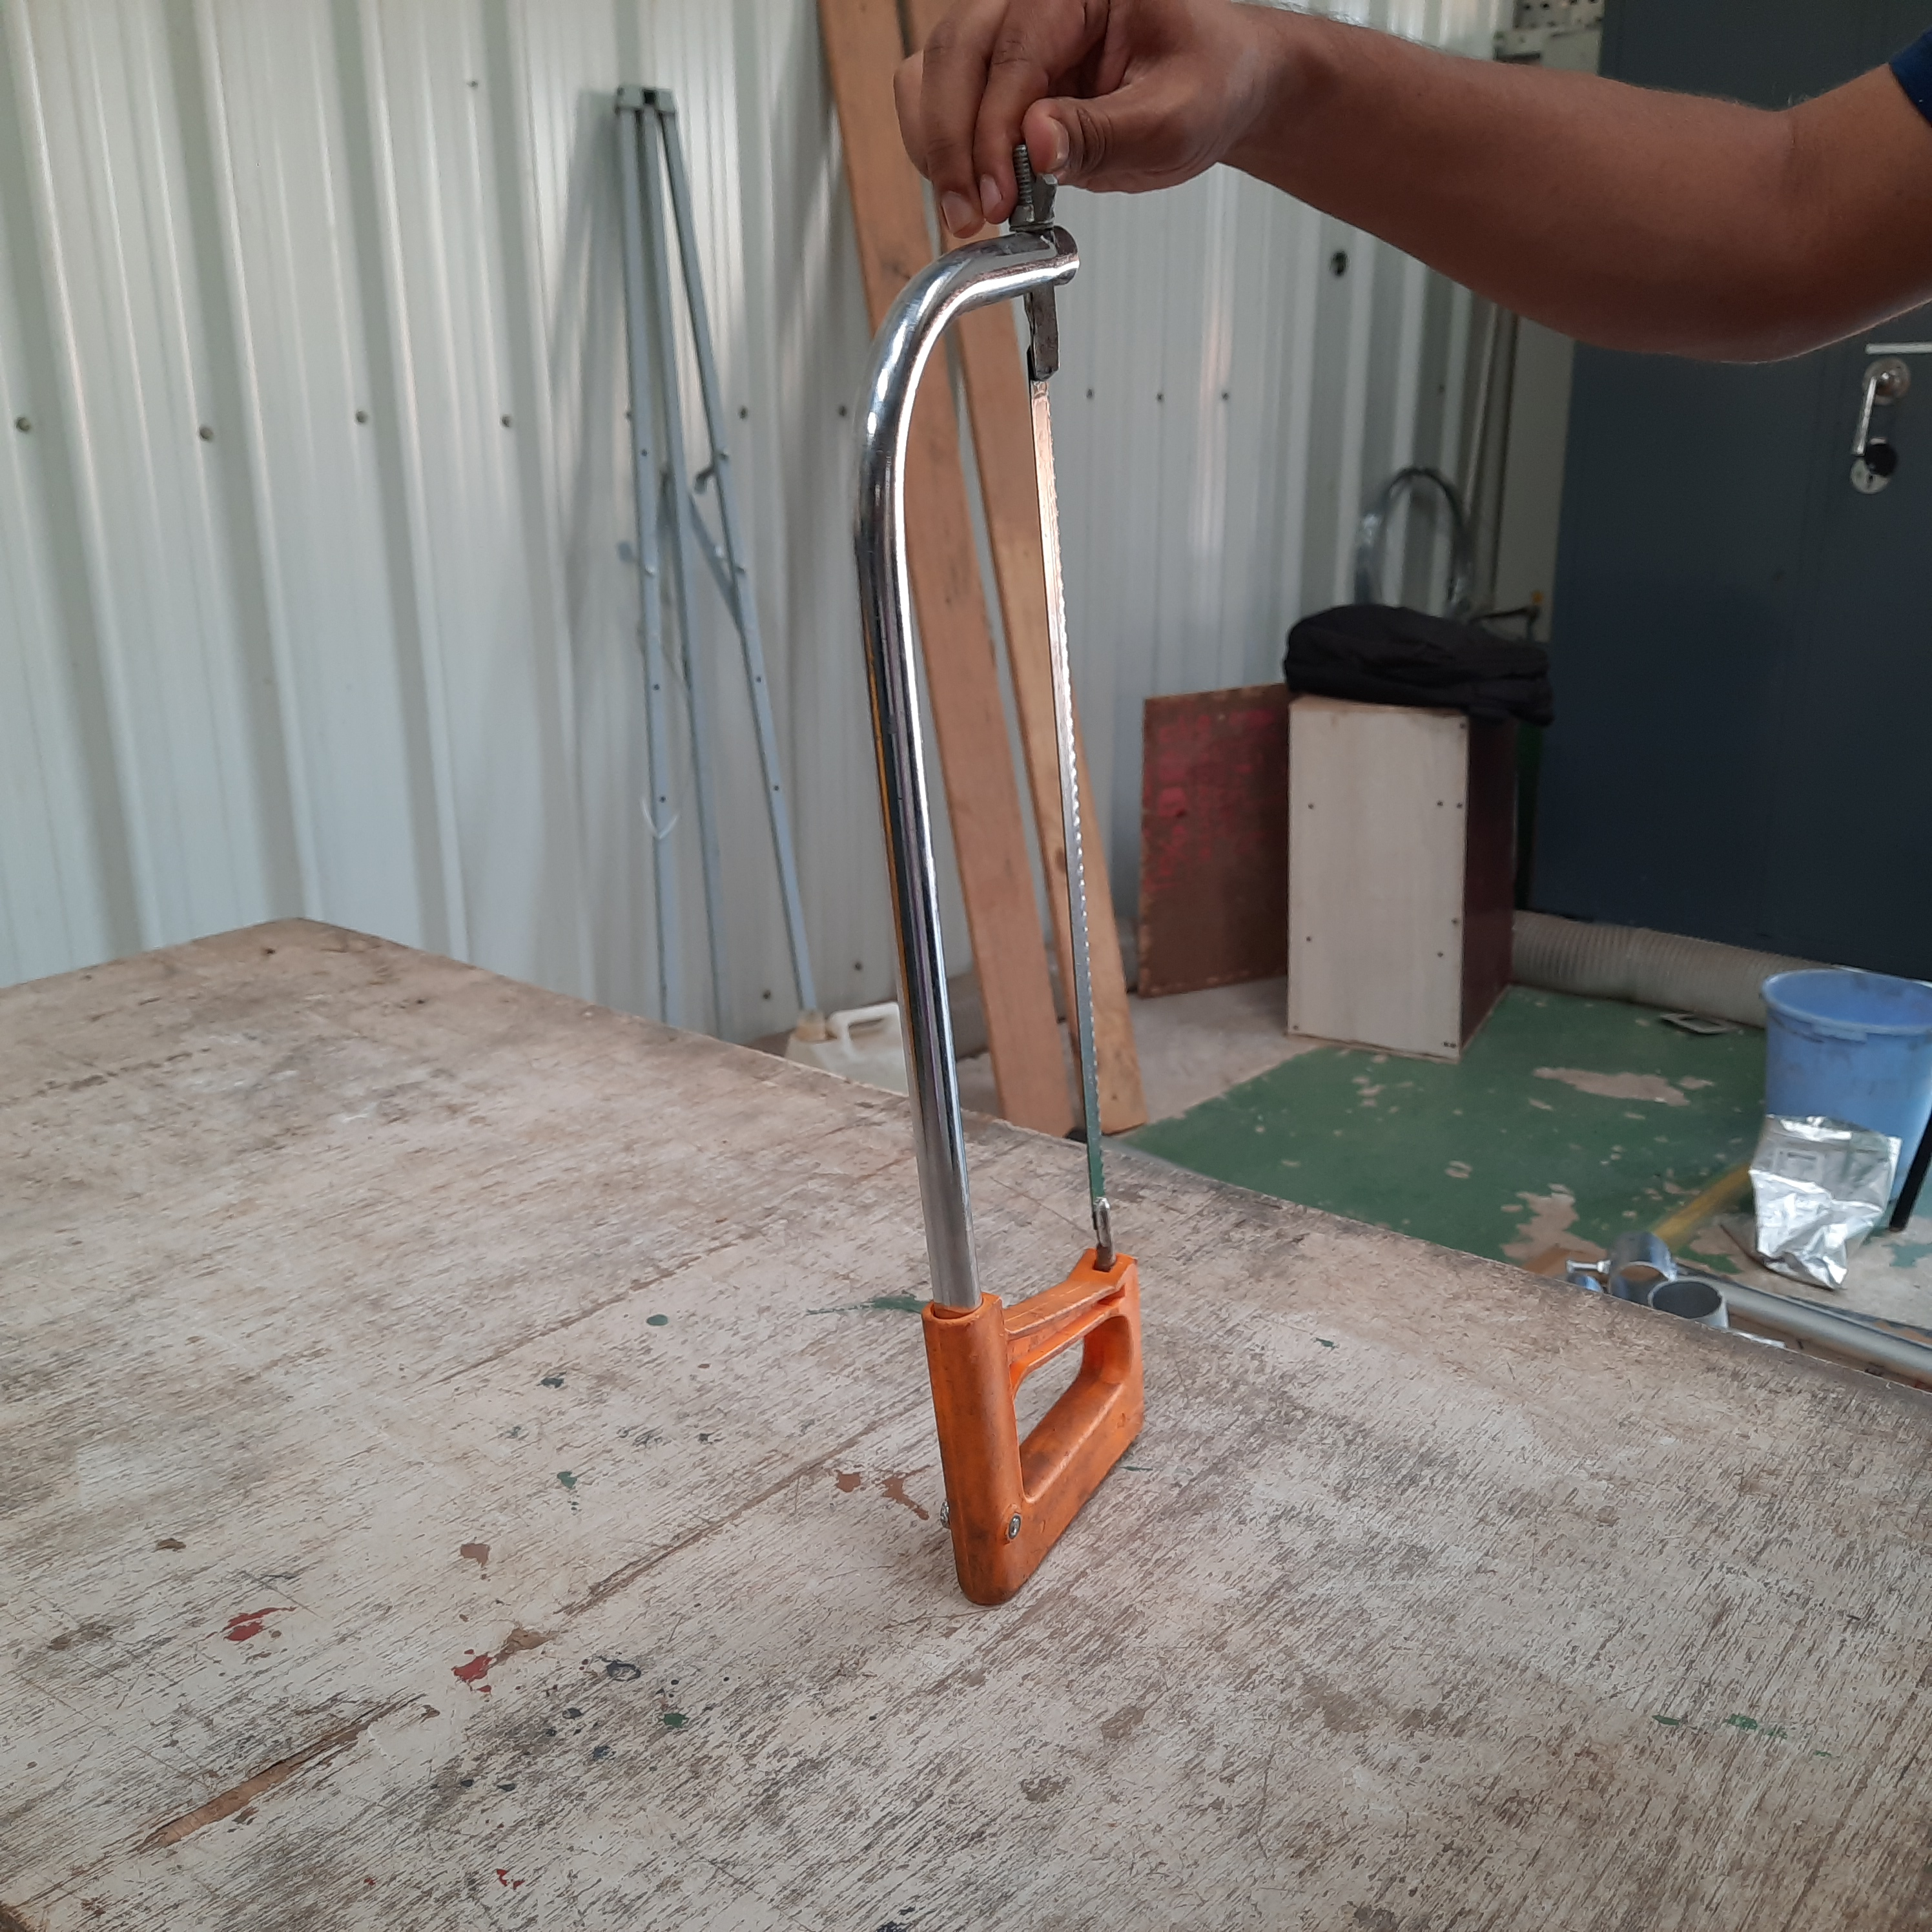Hexaframe: (816, 134, 1185, 1591)
